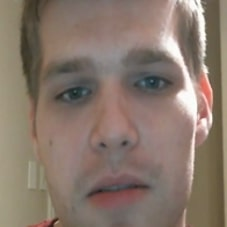awake: (44, 45, 183, 219)
